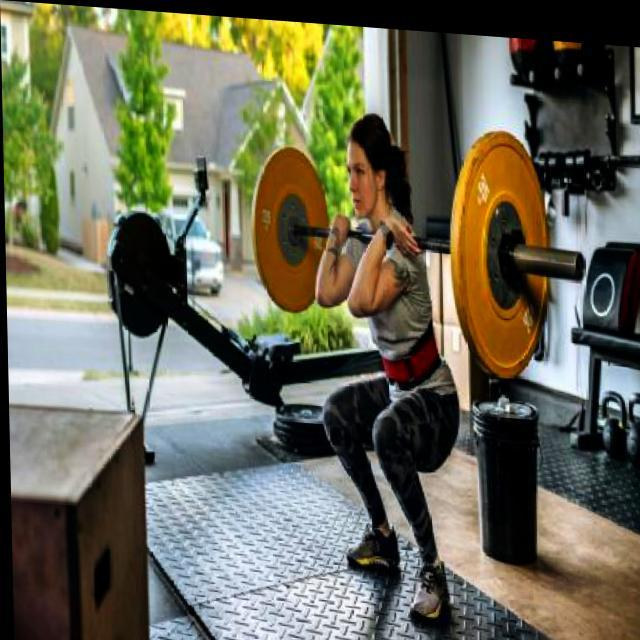barbell: (450, 115, 598, 379)
